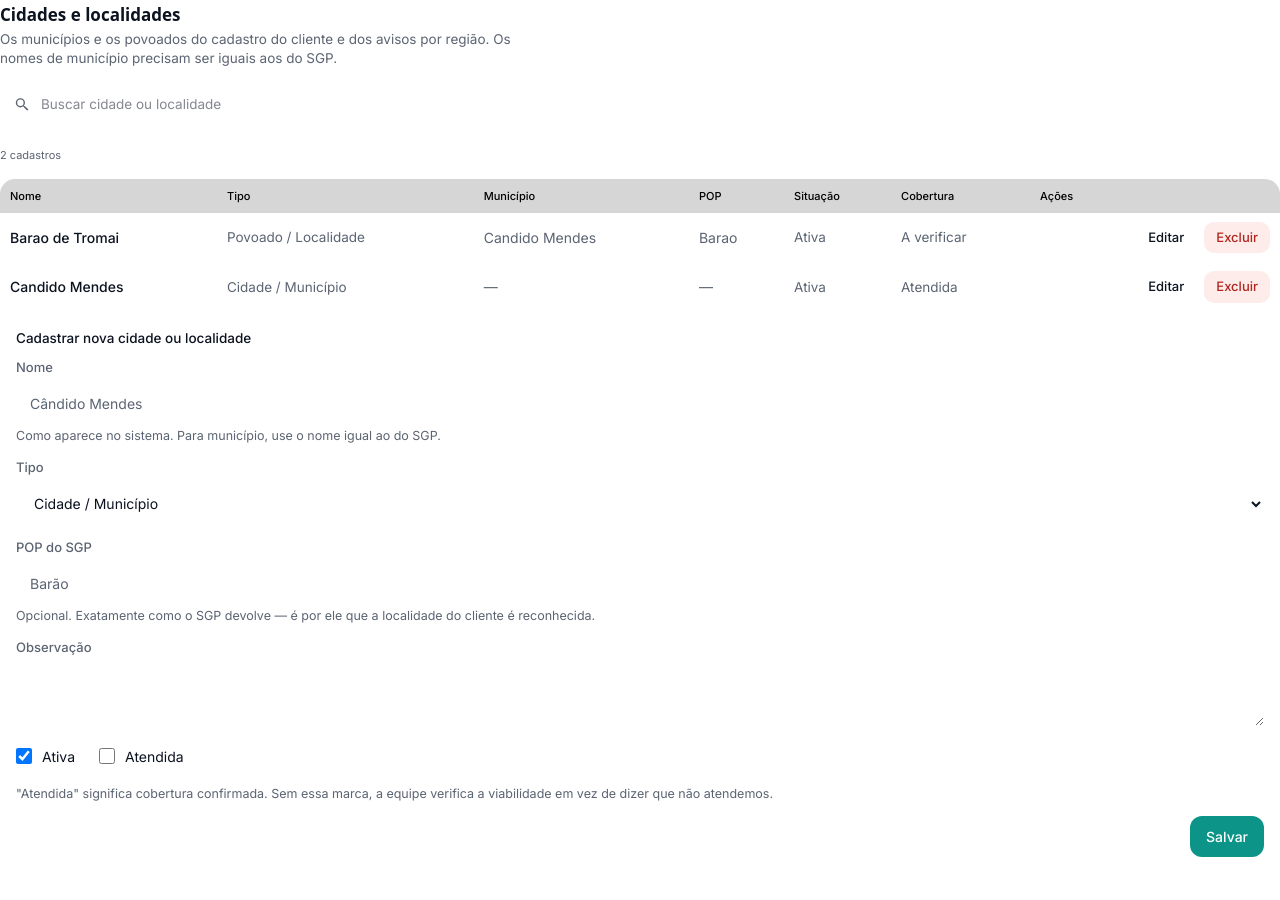
Test: CitiesAdminTab — lugares › editar abre o formulario com o registro da linha
The image size is (1280, 900).
Click the button with aria-label "editar barao de tromai": click(1166, 237) [1136, 222, 1196, 253]
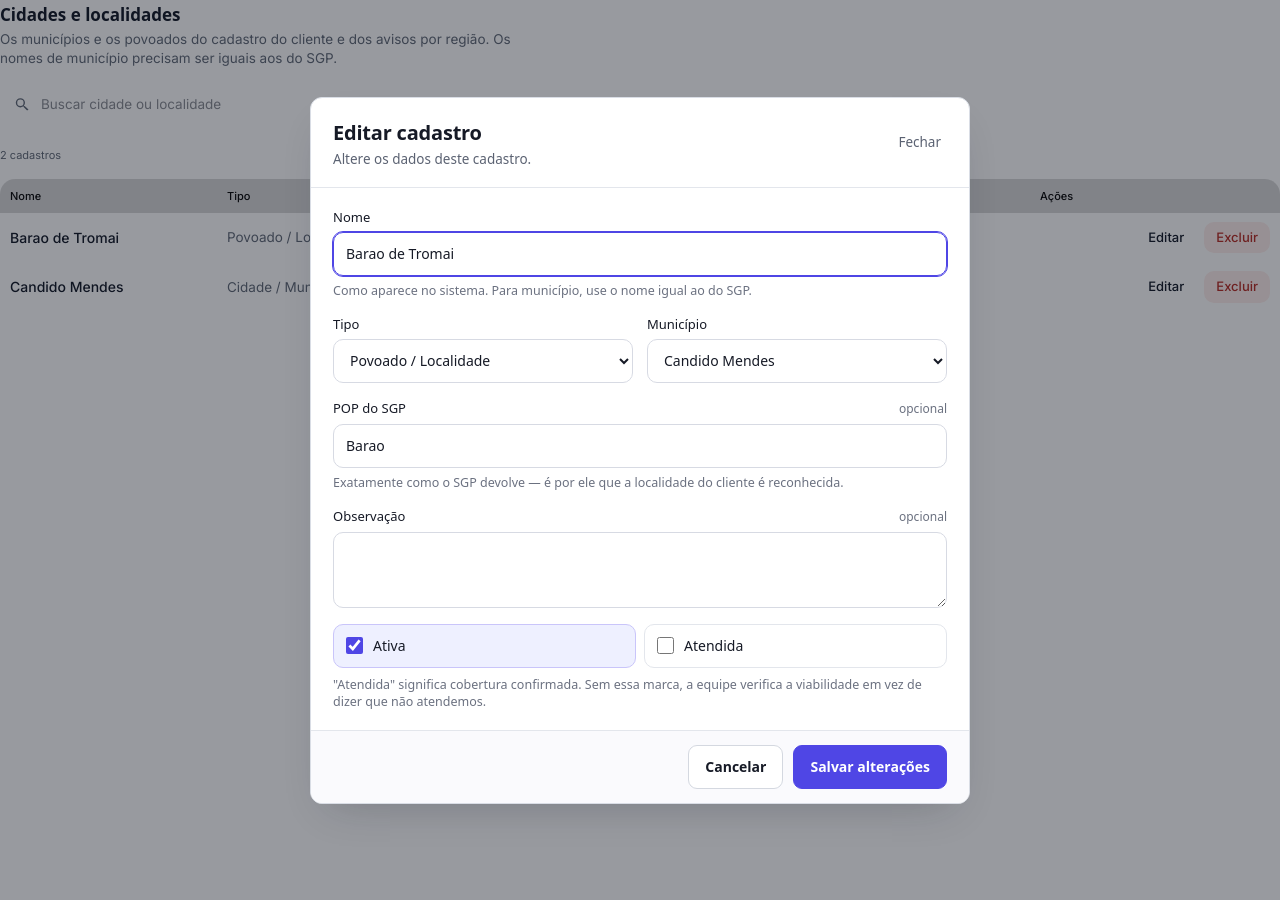
Now the dialog is shown, box [310, 96, 970, 804]
Now the field labelled "Nome" holds "Barao de Tromai", box [333, 232, 947, 276]
